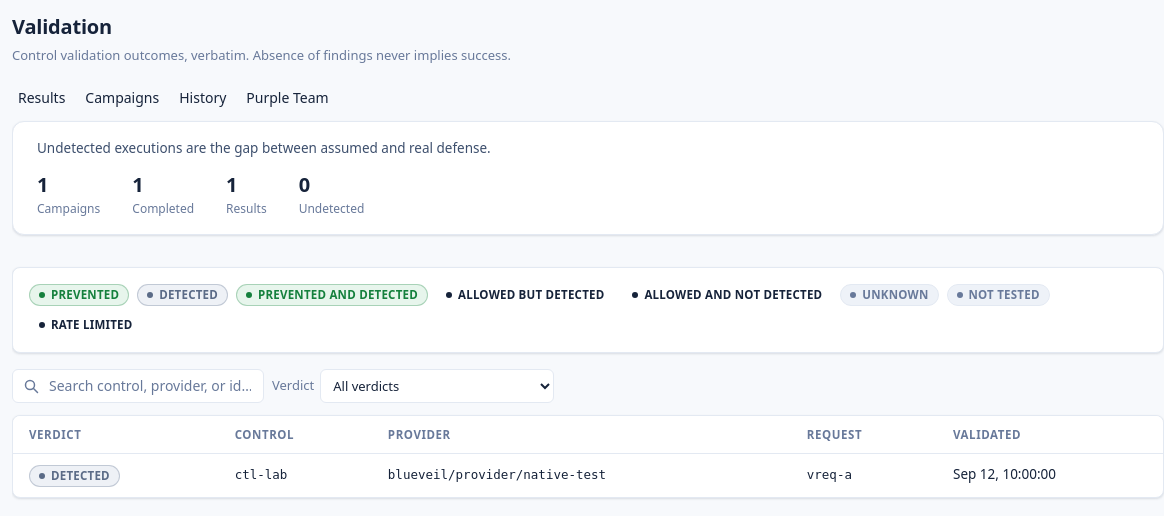
Scenario: Validation workspace tabs › purple team shows neutral exercise status
What coordinates should you click on to do the following:
click the tab "Purple Team"
I would click on:
 (287, 97)
Its box is [240, 86, 335, 108].
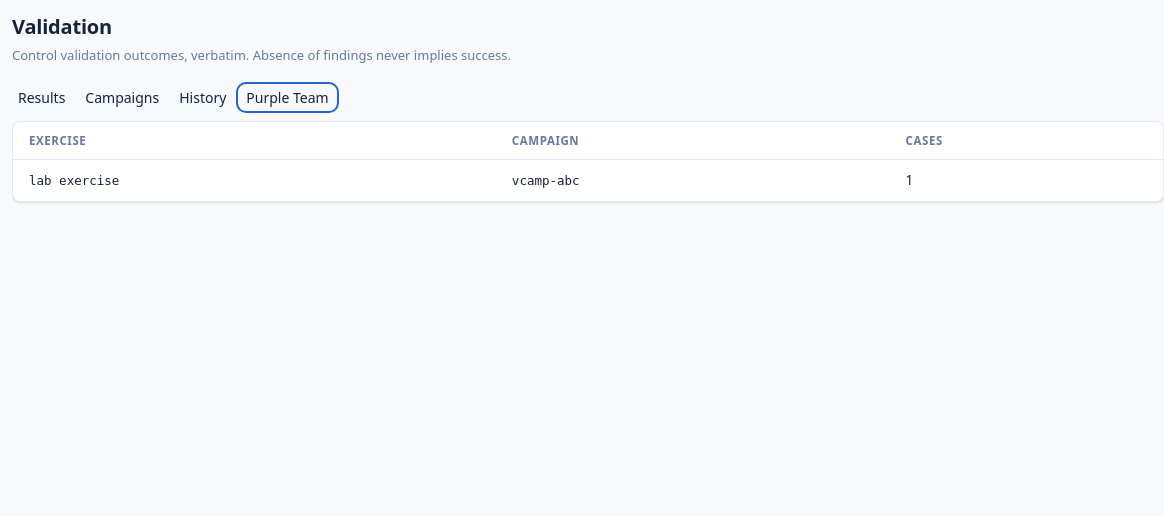
Now the text "lab exercise" is shown, box [29, 173, 119, 188]
